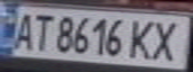1: (87, 15, 109, 56)
6: (103, 16, 130, 57), (69, 15, 93, 55)
8: (51, 12, 75, 54)
A: (9, 10, 39, 52)
K: (124, 16, 160, 61)
T: (27, 10, 54, 52)
X: (145, 17, 187, 63)
